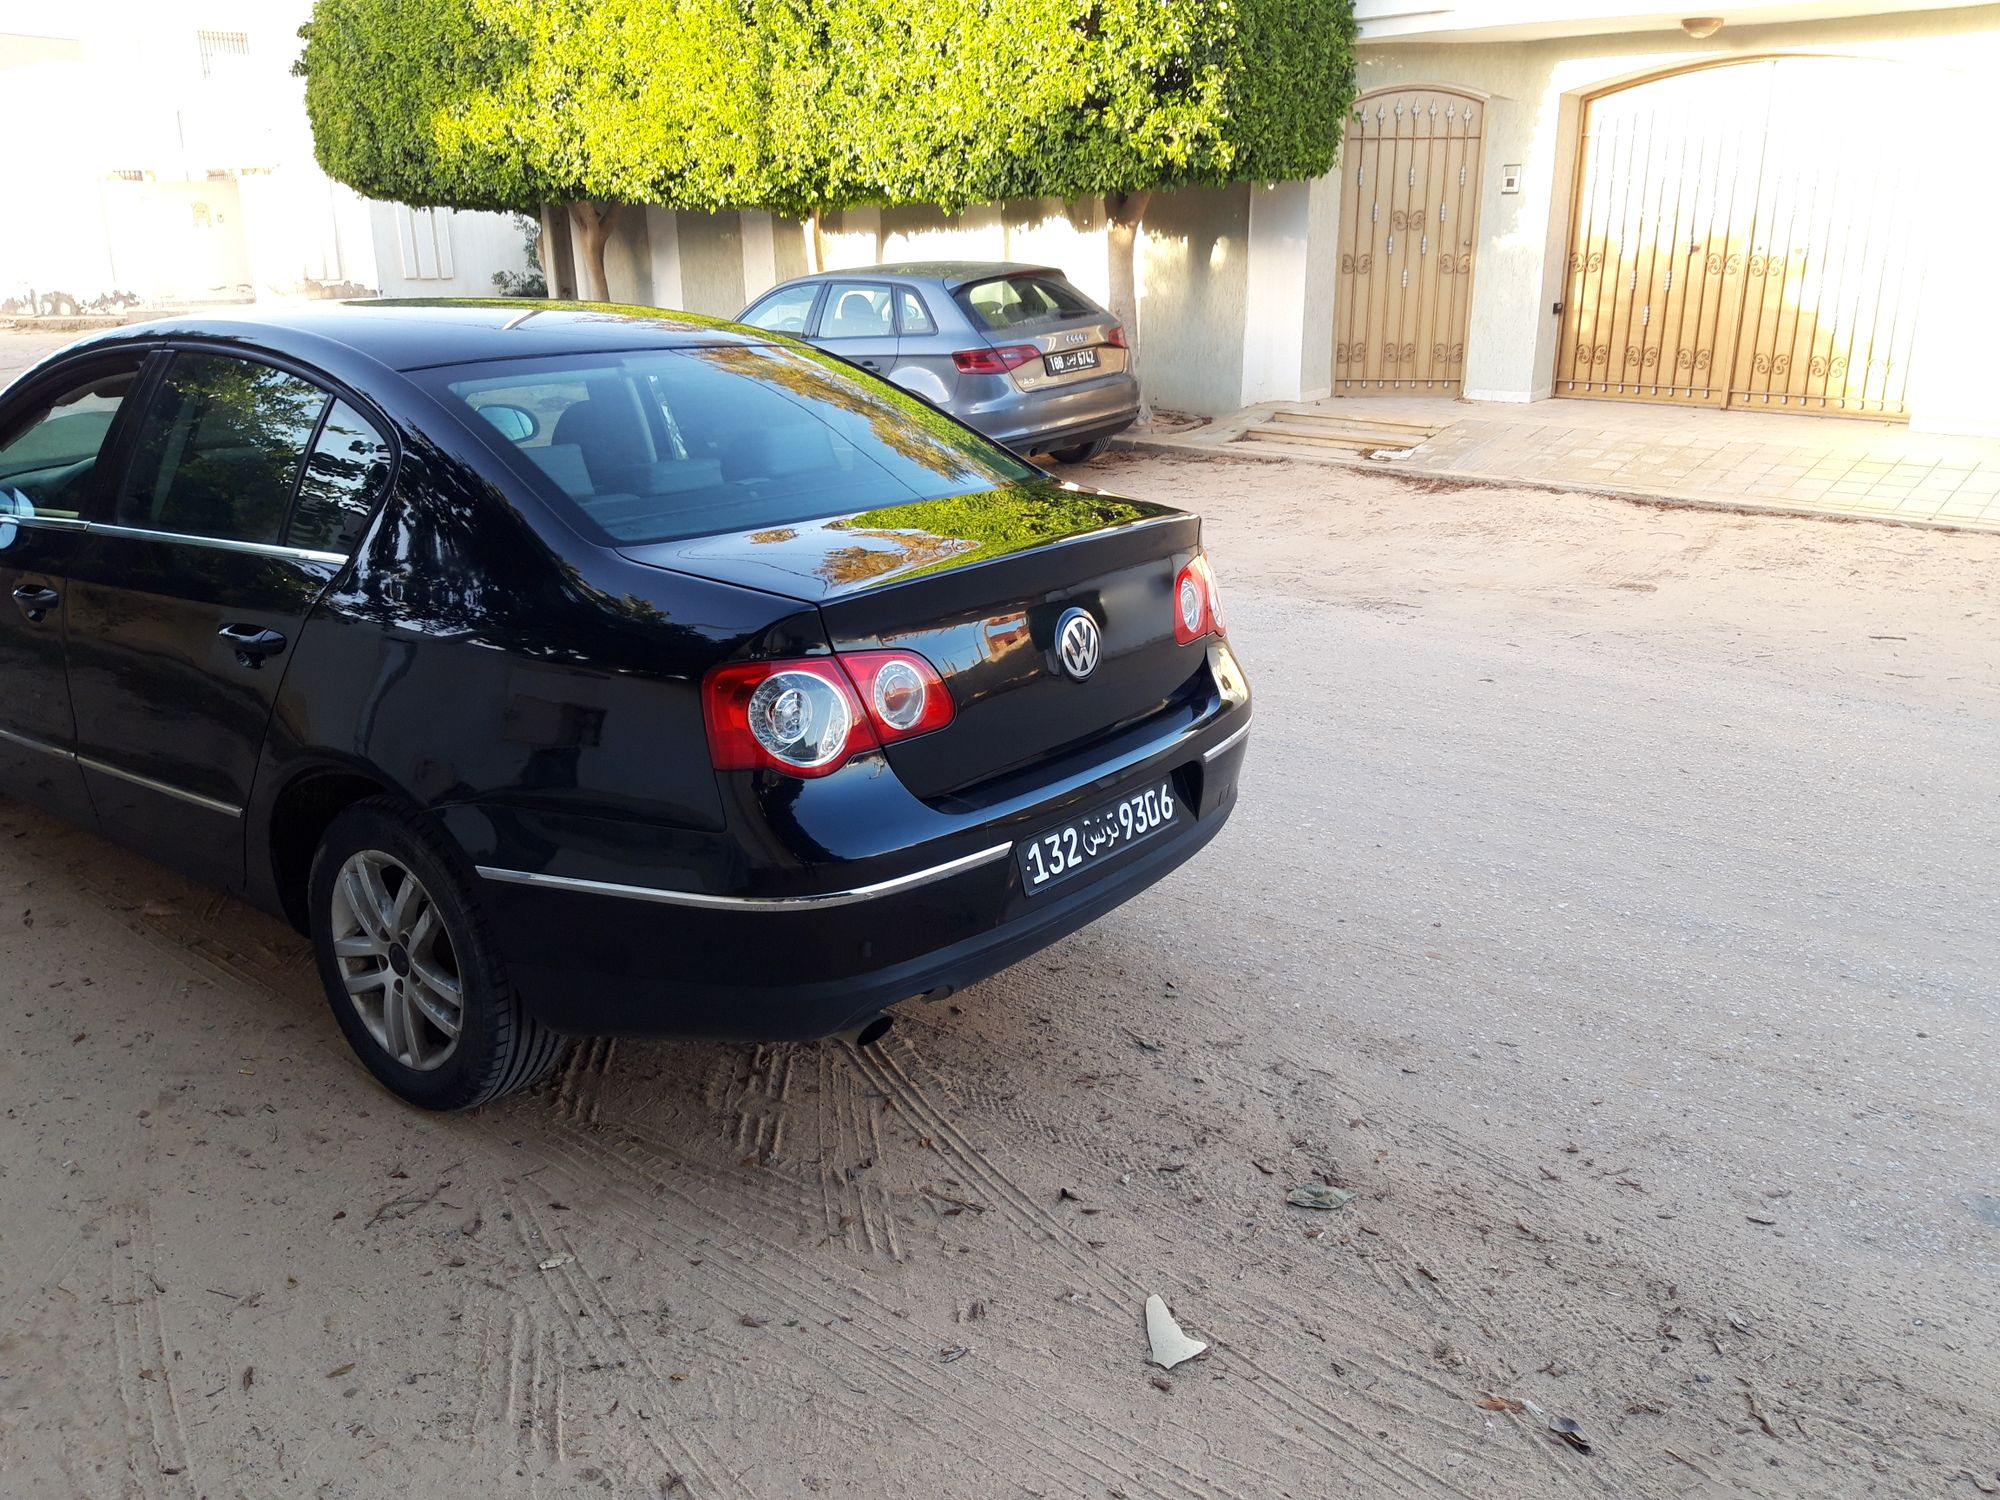LP: (1016, 770, 1197, 894)
